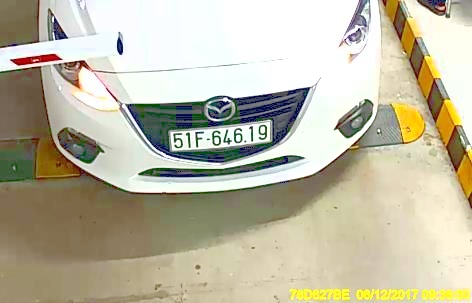plate: (167, 121, 273, 156)
